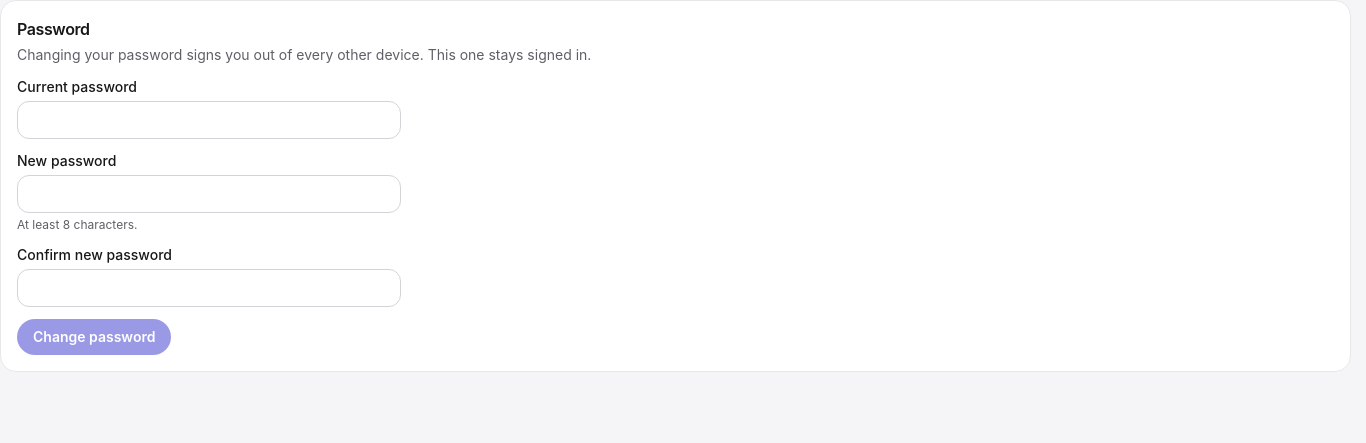
Test: ChangePasswordSection › names the wrong current password rather than a generic failure
The image size is (1366, 443).
Step 1. Type "wrong" into the password field labelled "Current password" → (209, 120), box [17,101,401,139]
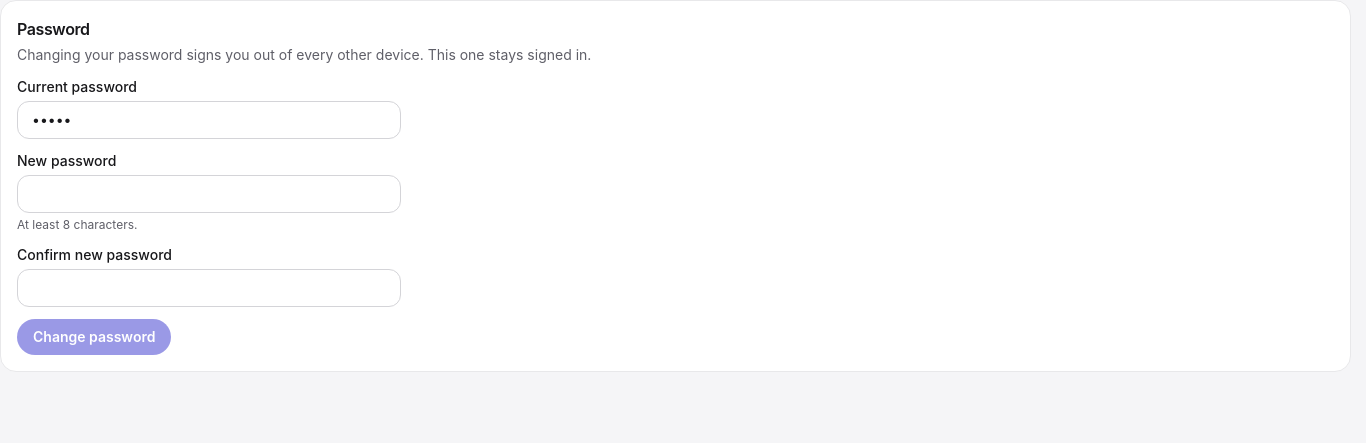
Step 2. Type "evenmoresecret" into the password field labelled "New password" → (209, 194), box [17,175,401,213]
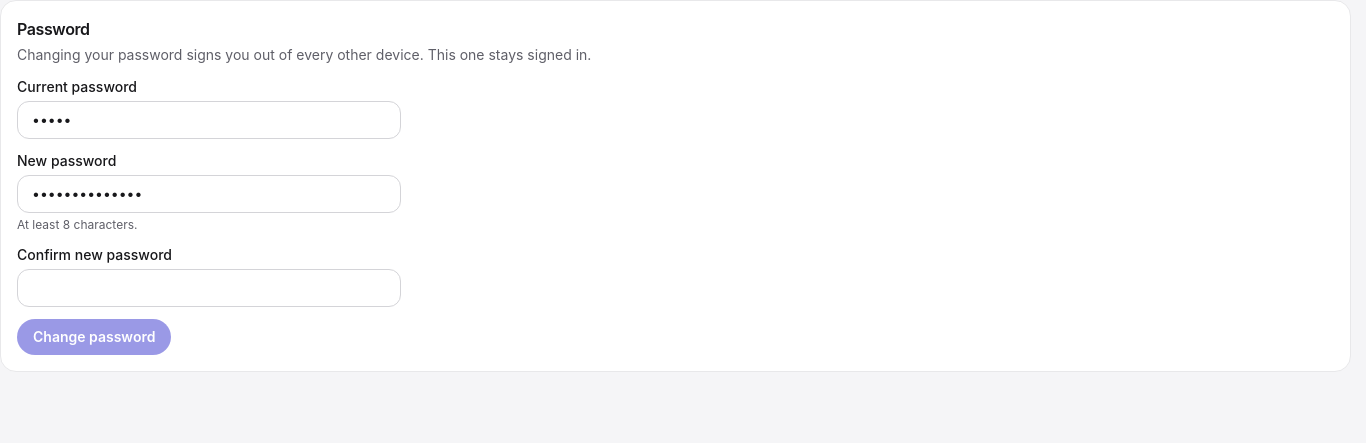
Step 3. Type "evenmoresecret" into the password field labelled "Confirm new password" → (209, 288), box [17,269,401,307]
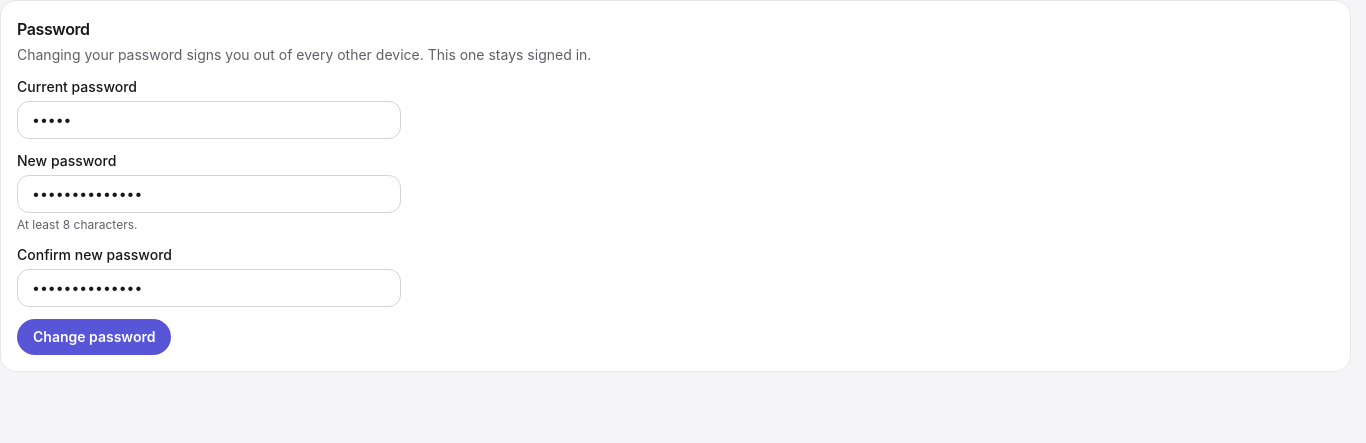
Step 4. Click the button "Change password" → (94, 337), box [17,319,171,355]
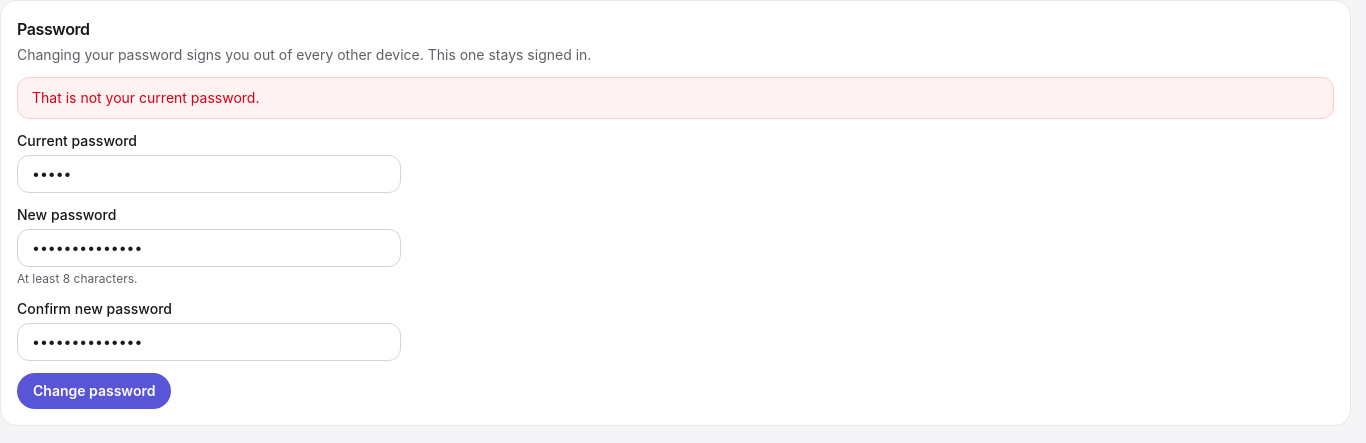
Expected: the message shows "current password", [32,89,259,106]
